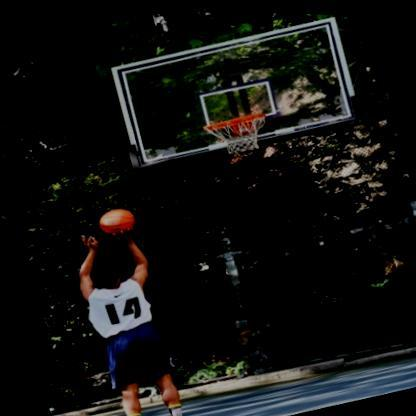basketball: (95, 202, 138, 237)
rim: (202, 106, 274, 159)
